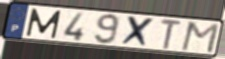4: (62, 11, 86, 42)
9: (93, 13, 121, 46)
M: (179, 21, 221, 55), (24, 7, 63, 40)
T: (159, 18, 184, 51)
X: (118, 15, 157, 49)
